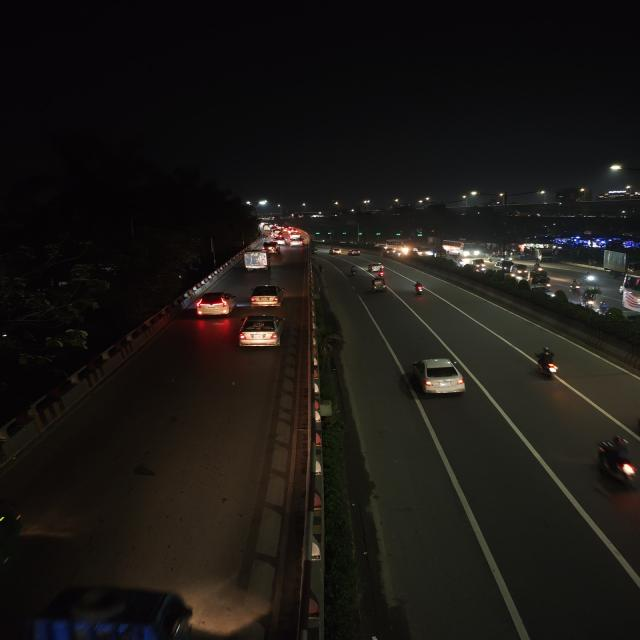bus: (441, 240, 480, 257), (381, 241, 406, 253)
car: (404, 355, 470, 403), (233, 312, 290, 352), (193, 290, 237, 318), (248, 283, 285, 307), (366, 262, 386, 274), (264, 242, 280, 254), (348, 249, 362, 257), (329, 248, 342, 255)
cng: (369, 275, 389, 293), (511, 265, 528, 275)
motorcycle: (531, 344, 567, 385), (411, 280, 427, 296), (583, 271, 598, 285), (569, 279, 582, 293)
truck: (603, 248, 639, 278), (240, 250, 269, 273), (532, 246, 554, 262)
